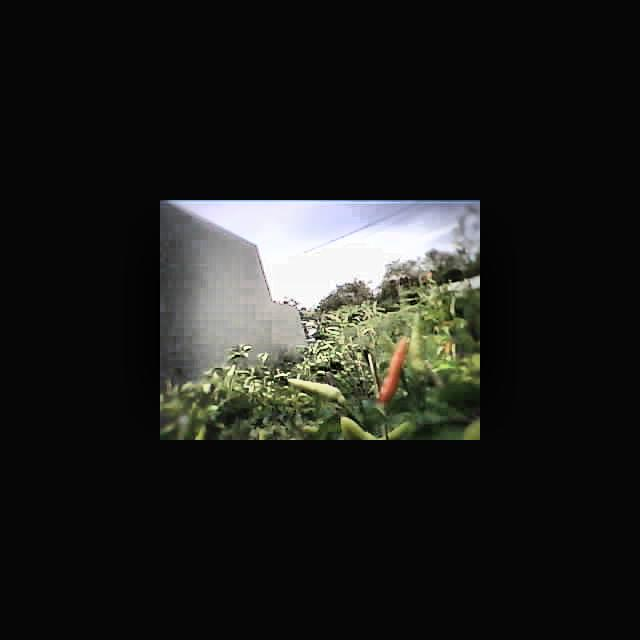Cabai: (379, 337, 405, 400)
